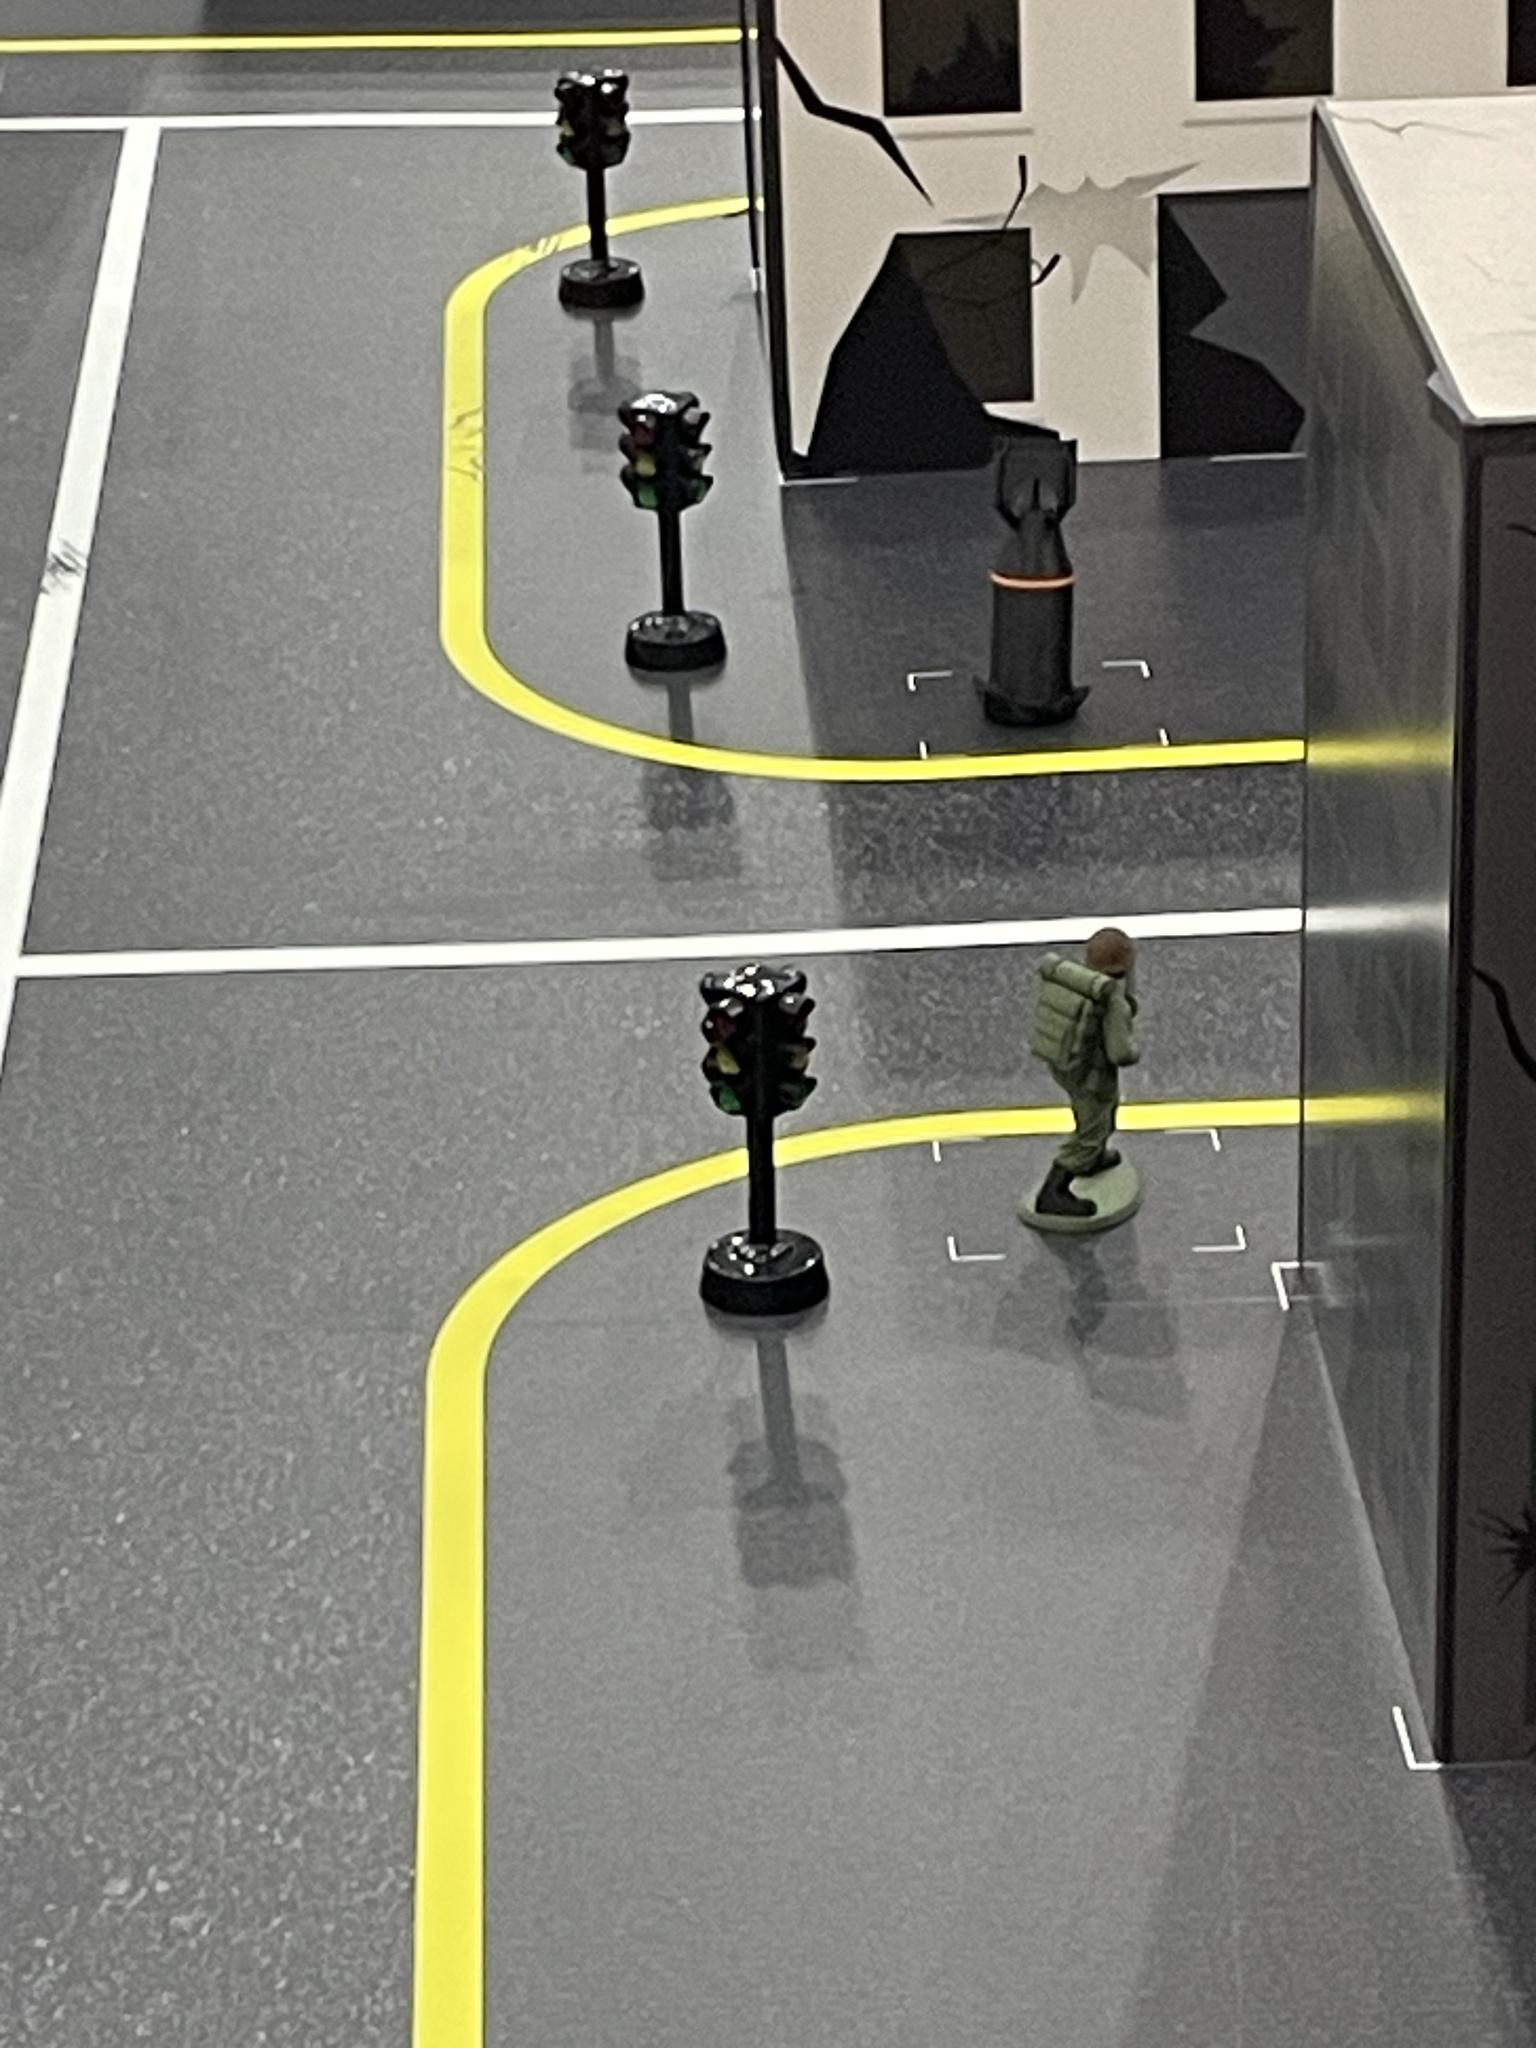Enemy: (1031, 927, 1150, 1245)
Missile: (975, 429, 1089, 734)
